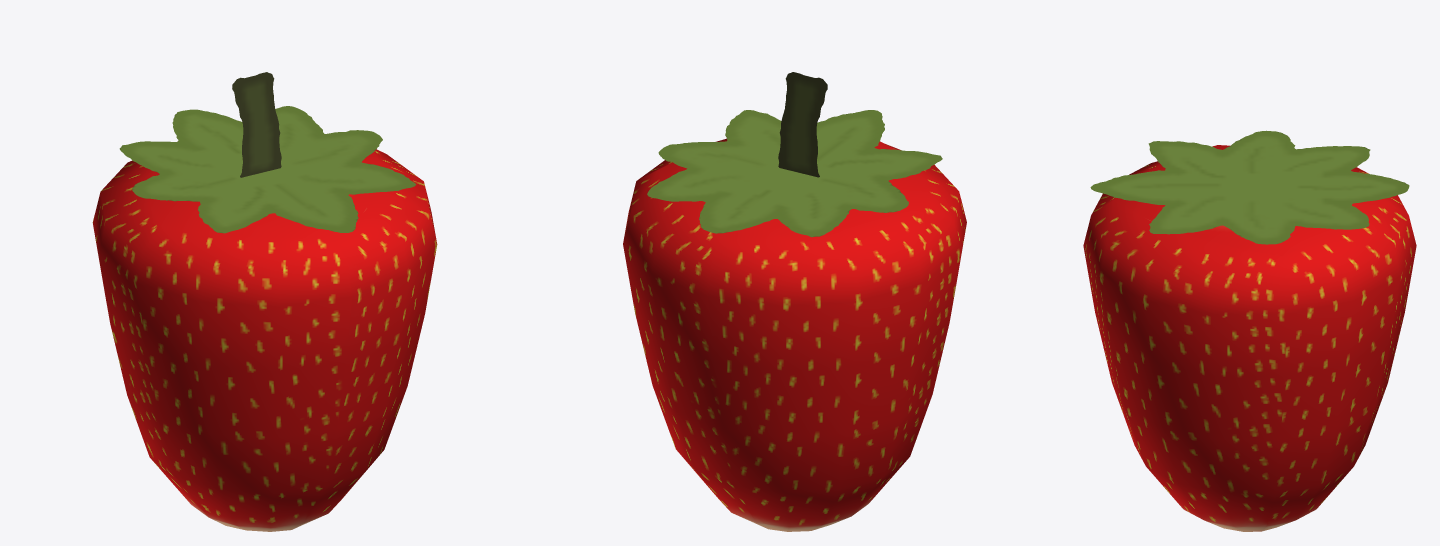
Rendered from Strawberry.fbx.
3 views of the same model, side by side, from view 1: azimuth 30°, elevation 25°; view 2: azimuth 150°, elevation 25°; view 3: azimuth 270°, elevation 25° (orthographic). The views are drawn at different scales.
Parts seen in each view (by area): view 1: Strawberry; view 2: Strawberry; view 3: Strawberry.
Part boxes in pixels (left/top/right/bottom): Strawberry: left=92, top=72, right=437, bottom=531; Strawberry: left=623, top=72, right=966, bottom=531; Strawberry: left=1083, top=130, right=1416, bottom=531.
Size of the model in its own units: 20.43 by 30.44 by 20.43.
